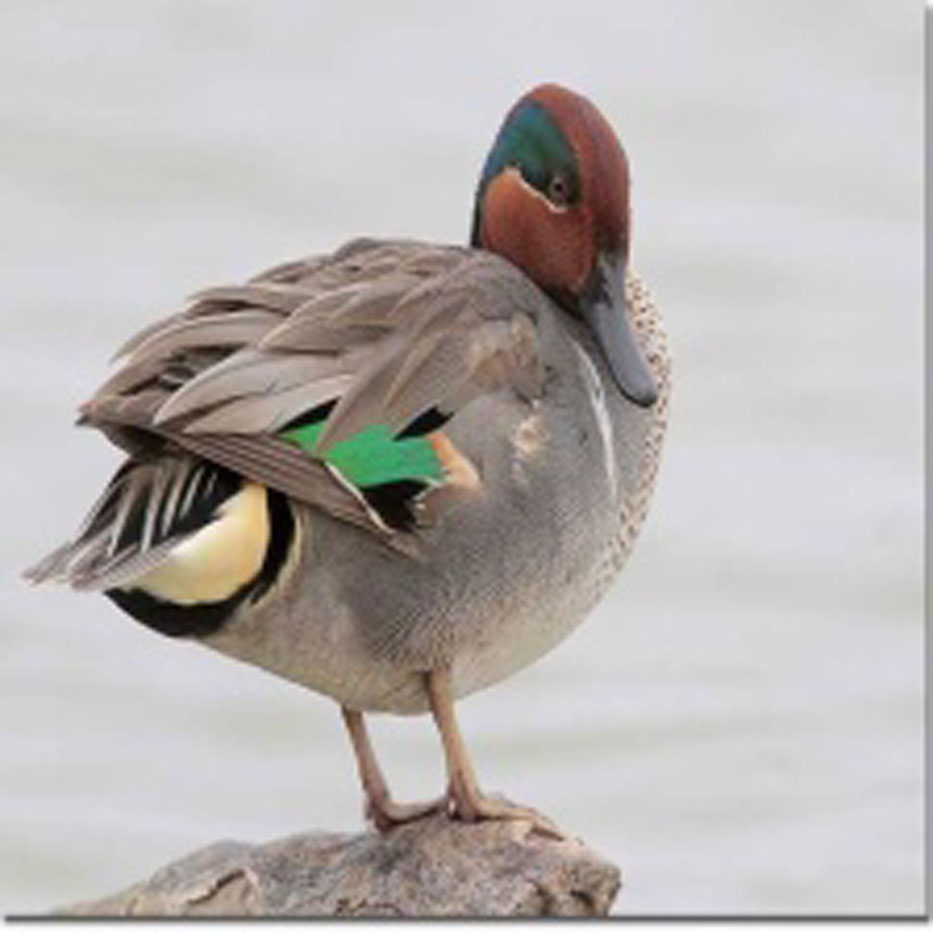Mencari Makan di Lumpur: (564, 261, 686, 435)
